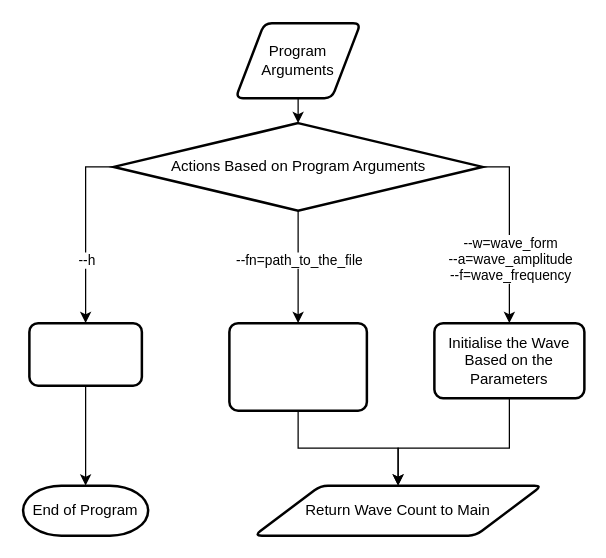
Image size: 606x558. Some labels were removed from this diagram. Here are the shapes that lost their labels. From the top down, the centre of each, then its label:
point (85, 353): Display Instructions
point (298, 366): Initialise Waves (File: Every line declares a wave)
